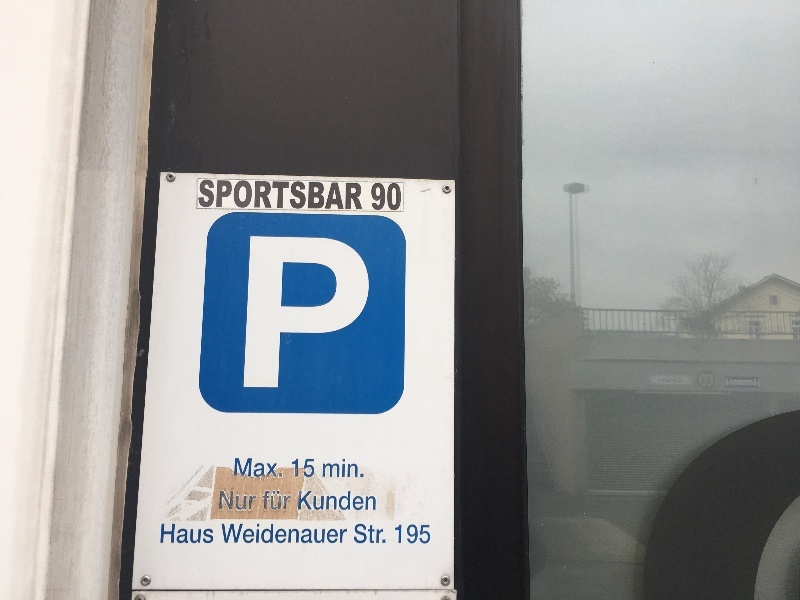text: (257, 234, 272, 392), (273, 234, 288, 392), (289, 234, 304, 392), (305, 234, 320, 392), (321, 234, 336, 392), (337, 234, 352, 392), (353, 234, 368, 392), (250, 234, 256, 392), (209, 179, 224, 210), (225, 179, 240, 210), (241, 179, 256, 210), (257, 179, 272, 210), (273, 179, 288, 210), (289, 179, 304, 210), (305, 179, 320, 210), (321, 179, 336, 210), (337, 179, 352, 210), (385, 182, 401, 211), (371, 182, 384, 211), (337, 457, 352, 479), (225, 489, 240, 511), (241, 489, 256, 511), (305, 490, 320, 512), (321, 490, 336, 512), (337, 490, 352, 512), (353, 490, 368, 512), (161, 523, 176, 545), (177, 523, 192, 545), (193, 523, 208, 545), (369, 523, 384, 545), (369, 234, 371, 392), (273, 490, 288, 511), (353, 179, 363, 210), (241, 458, 256, 478), (257, 458, 272, 478), (225, 524, 240, 544), (241, 524, 256, 544), (257, 524, 272, 544), (273, 524, 288, 544), (289, 524, 304, 544), (305, 524, 320, 544), (321, 524, 336, 544), (401, 524, 416, 544), (323, 457, 336, 479), (355, 523, 368, 545), (417, 524, 431, 544), (353, 457, 365, 479), (337, 524, 350, 544), (292, 458, 304, 477), (273, 458, 284, 478), (201, 179, 208, 210), (305, 458, 315, 477), (263, 490, 272, 511), (369, 490, 376, 512), (298, 490, 304, 512), (394, 524, 400, 544), (209, 523, 214, 545), (235, 458, 240, 478), (220, 489, 224, 511), (289, 490, 293, 511), (221, 524, 224, 544), (385, 523, 387, 545), (257, 489, 258, 511)
